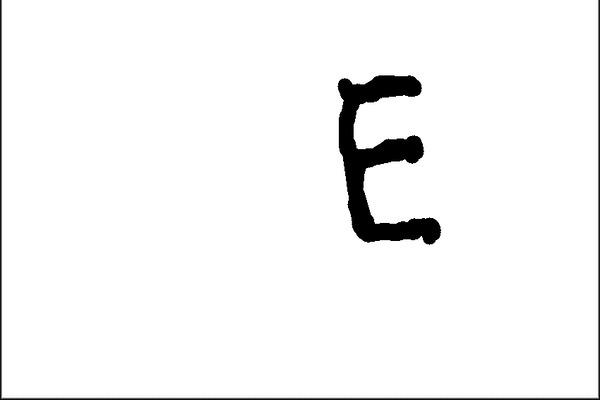E: (331, 69, 450, 248)
